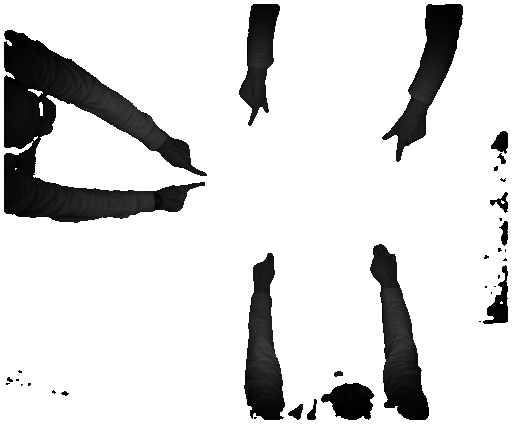hand: (381, 113, 431, 167), (165, 135, 207, 179), (232, 81, 271, 127), (160, 181, 207, 215), (248, 248, 279, 291), (368, 240, 399, 282)
